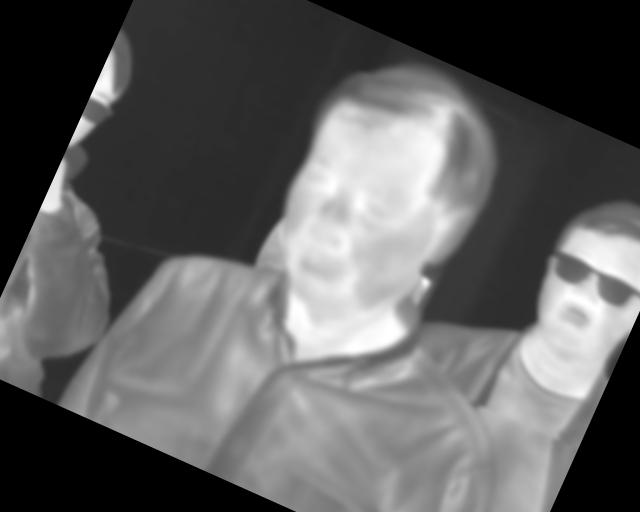face: (238, 32, 526, 361), (510, 175, 640, 377)
